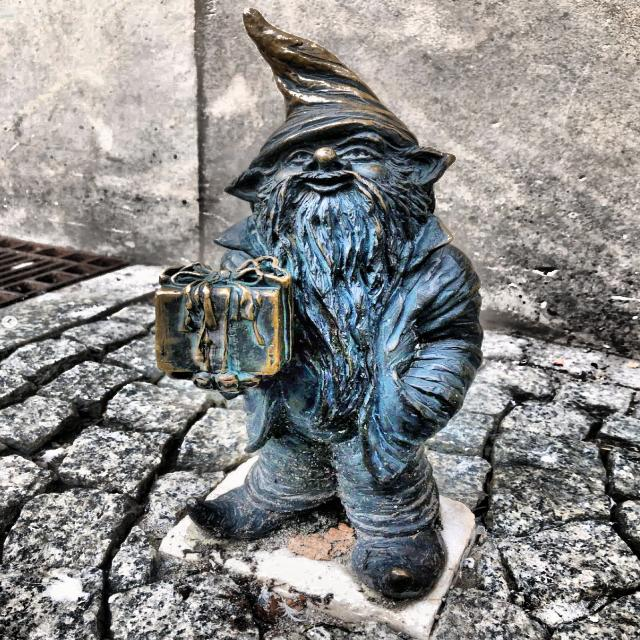Suvenirek: (156, 11, 482, 600)
